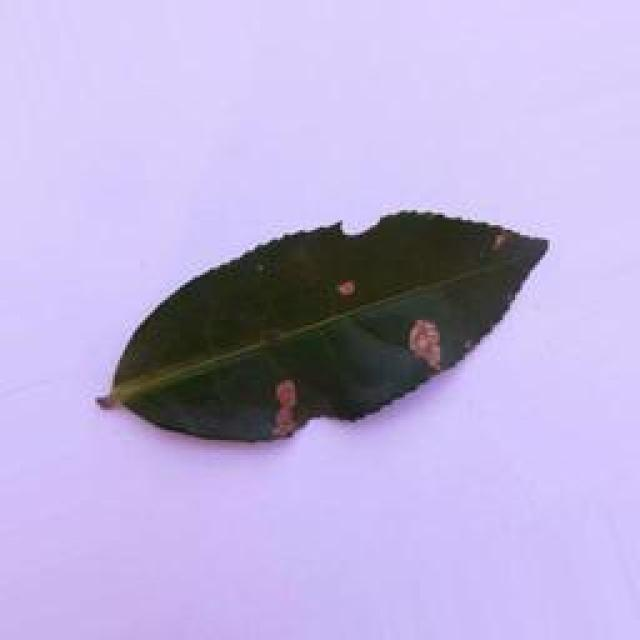Gray Blight: (93, 208, 555, 445)
